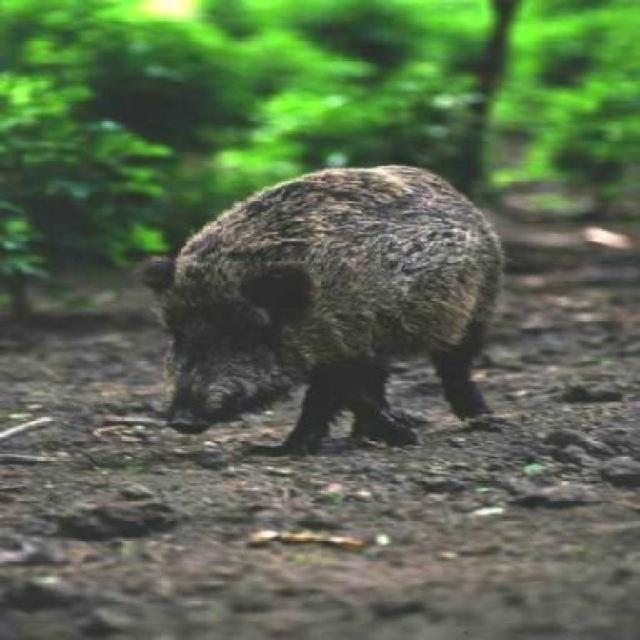Boar: (128, 157, 529, 441)
